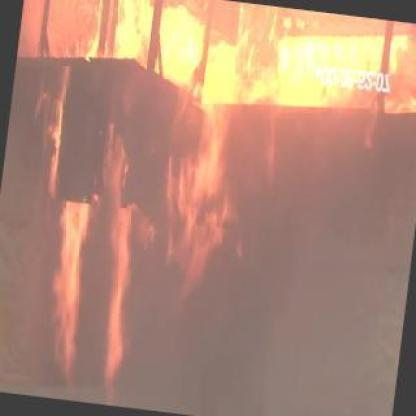Fire: (35, 140, 229, 367), (89, 0, 414, 133)
